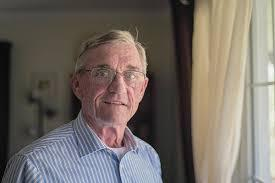normalEye: (93, 63, 141, 83)
strokeMouthWeak: (98, 97, 130, 109)
